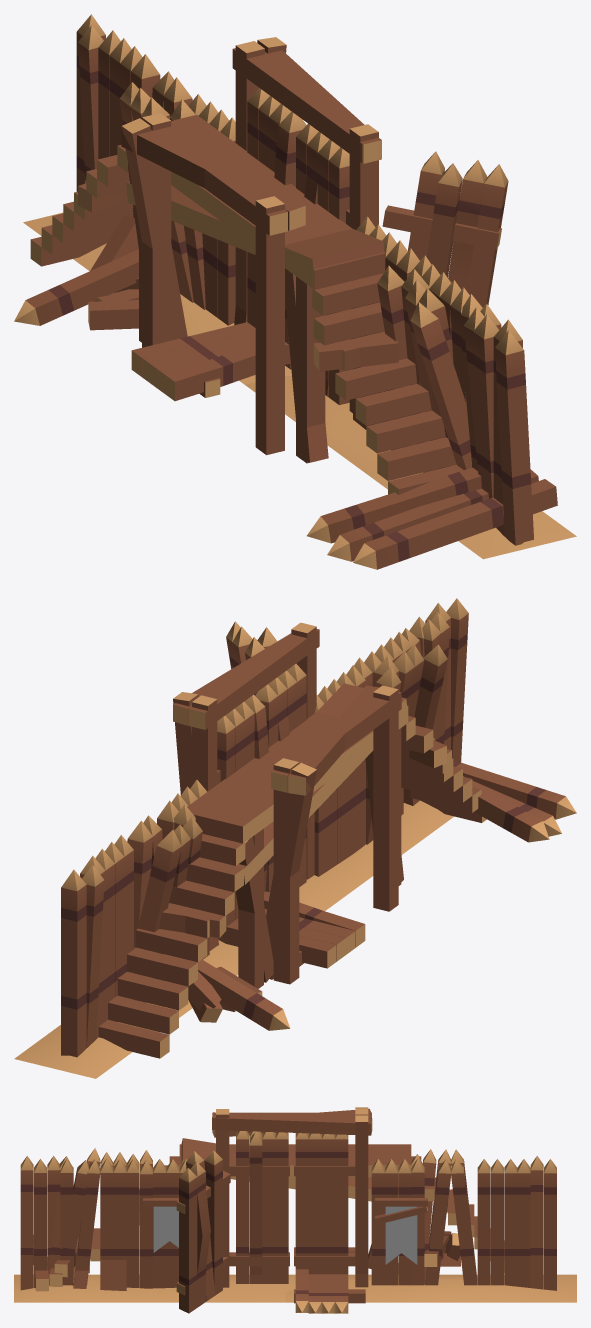
Rendered from Wooden Gate.fbx.
3 views of the same model, one above another, from view 1: azimuth 30°, elevation 25°; view 2: azimuth 150°, elevation 25°; view 3: azimuth 270°, elevation 25° (orthographic). The views are drawn at different scales.
Parts seen in each view (by area): view 1: Wall, Destruction_phase_2, Destruction_phase_1, R_Gate (×2), L_Gate (×2); view 2: Wall, Destruction_phase_2, Destruction_phase_1, R_Gate (×2), L_Gate (×2); view 3: Wall, R_Gate (×3), Destruction_phase_2, L_Gate, Destruction_phase_1, Flag_2 (×2), Flag_1.
Part boxes in pixels (<box>): Wall: <box>23,14,576,559</box>; Destruction_phase_2: <box>14,37,557,569</box>; Destruction_phase_1: <box>78,82,484,488</box>; R_Gate (×2): <box>296,123,508,404</box>; L_Gate (×2): <box>247,88,306,369</box>; Wall: <box>14,598,486,1078</box>; Destruction_phase_2: <box>163,630,576,1030</box>; Destruction_phase_1: <box>134,619,451,1002</box>; R_Gate (×2): <box>226,621,306,891</box>; L_Gate (×2): <box>217,694,268,939</box>; Wall: <box>14,1109,576,1302</box>; R_Gate (×3): <box>176,1130,289,1313</box>; Destruction_phase_2: <box>33,1107,460,1313</box>; L_Gate: <box>294,1133,355,1274</box>; Destruction_phase_1: <box>49,1148,477,1290</box>; Flag_2 (×2): <box>385,1206,417,1264</box>; Flag_1: <box>153,1206,178,1252</box>.
Bounding box in the file's own units: 1.53 × 1.51 × 4.25.
2 materials, 1 textured.
